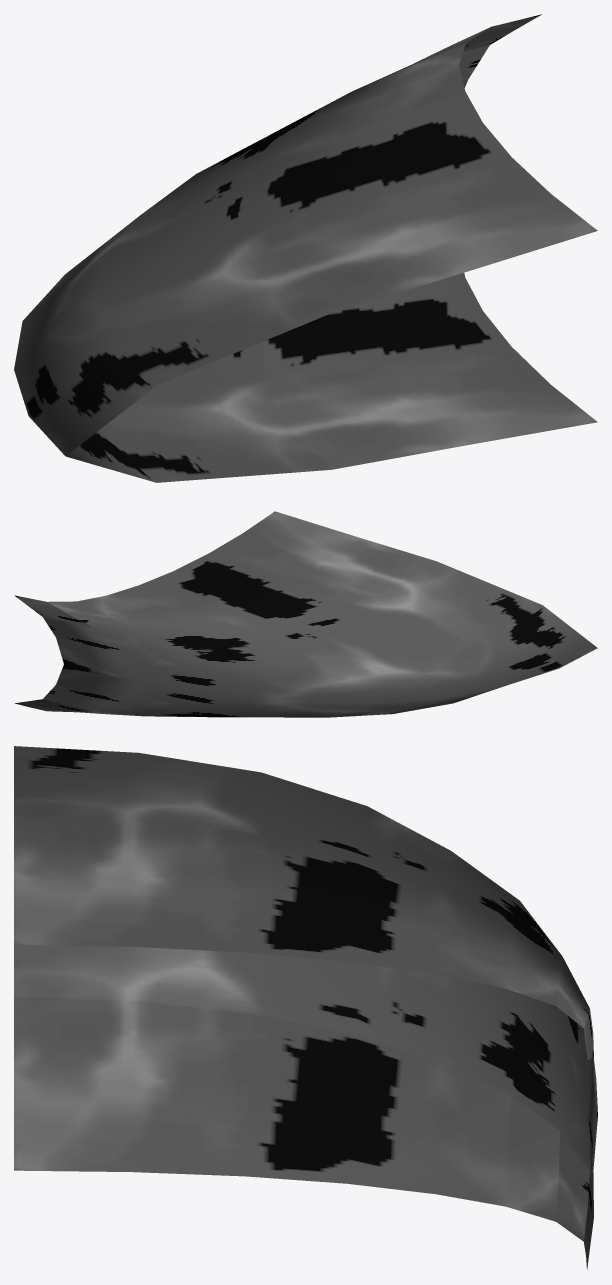
The model's file is daofeng05.FBX.
The picture shows the model from 3 angles, top to bottom: view 1: azimuth 30°, elevation 25°; view 2: azimuth 150°, elevation 25°; view 3: azimuth 270°, elevation 25°; orthographic projection. The views are drawn at different scales.
Visible parts, largest first — view 1: Sphere003; view 2: Sphere003; view 3: Sphere003.
Boxes of the visible parts, left/top/right/bottom form: Sphere003: left=14, top=14, right=597, bottom=482; Sphere003: left=14, top=511, right=597, bottom=717; Sphere003: left=14, top=746, right=597, bottom=1269.
Size of the model in its own units: 27.85 by 7.07 by 16.57.
